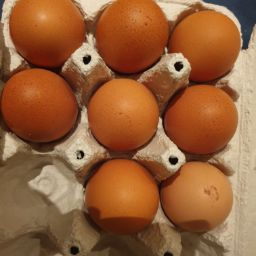Eggs: (14, 32, 232, 236), (6, 68, 83, 158), (82, 71, 163, 156), (86, 164, 161, 244), (169, 82, 244, 161), (174, 156, 236, 241), (173, 9, 248, 77), (97, 5, 171, 73), (9, 1, 87, 63)
